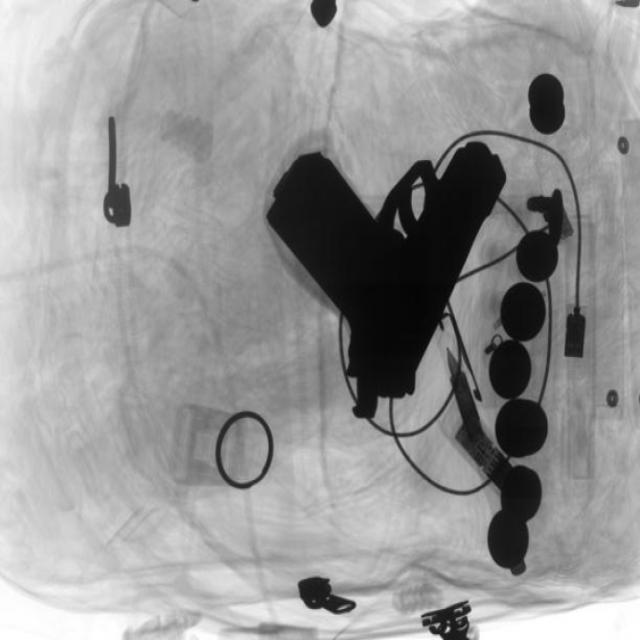GUN: (269, 141, 520, 412)
